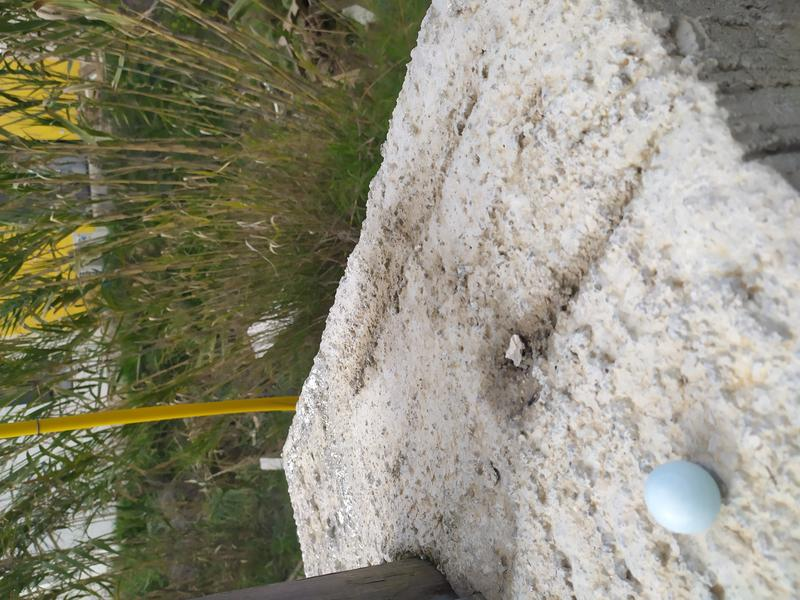Warning: (640, 456, 724, 537)
